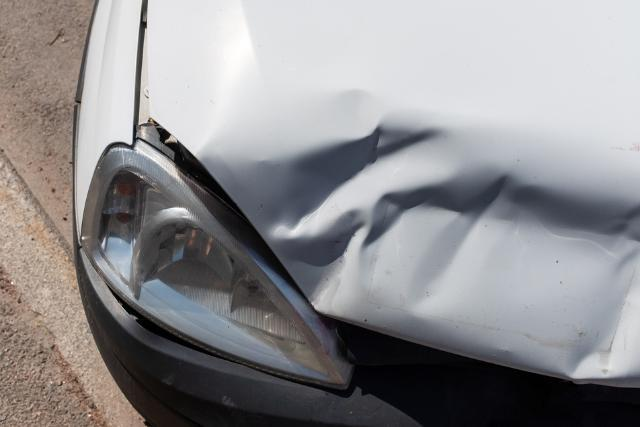Bonnet: (122, 0, 640, 398)
